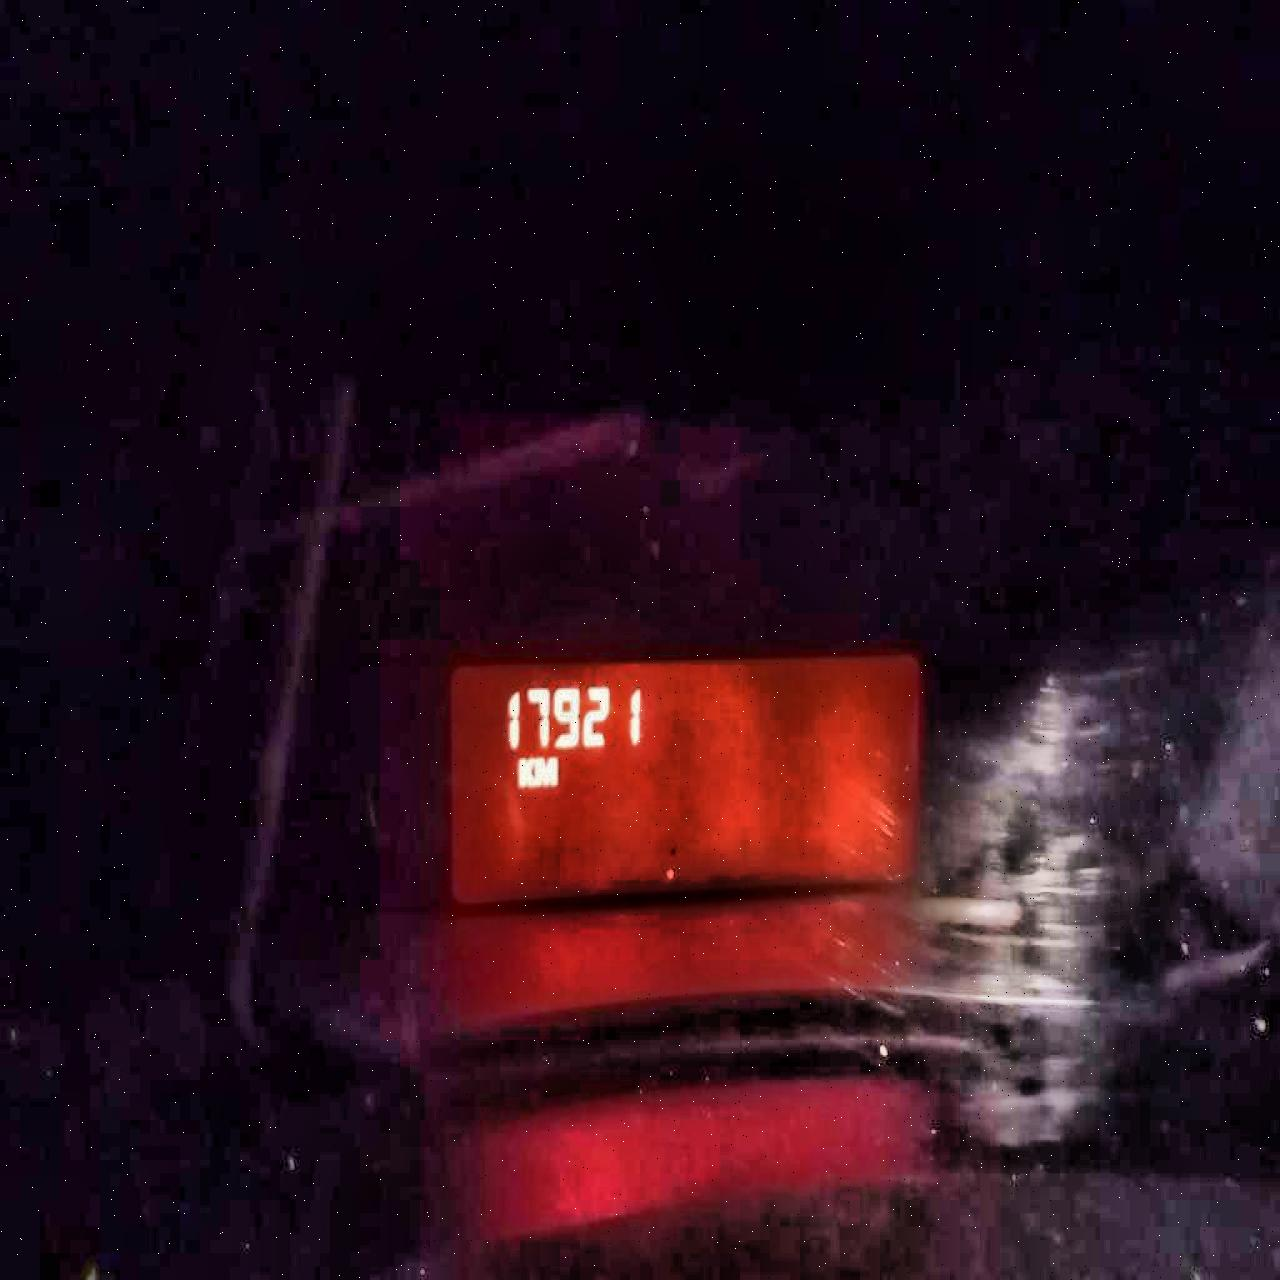1: (622, 676, 645, 751), (502, 682, 519, 754)
2: (583, 683, 613, 749)
7: (525, 682, 551, 748)
9: (552, 683, 579, 751)
X: (535, 755, 557, 787), (516, 755, 533, 788)
odometer: (445, 648, 921, 907)
